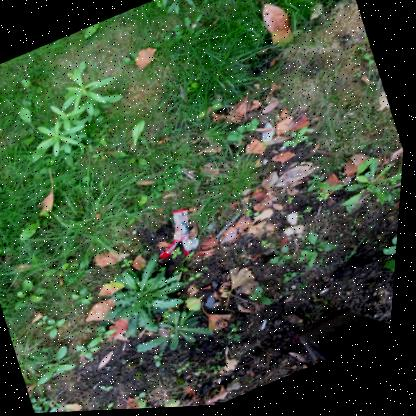Plastic: (163, 211, 202, 260), (218, 215, 244, 241)
